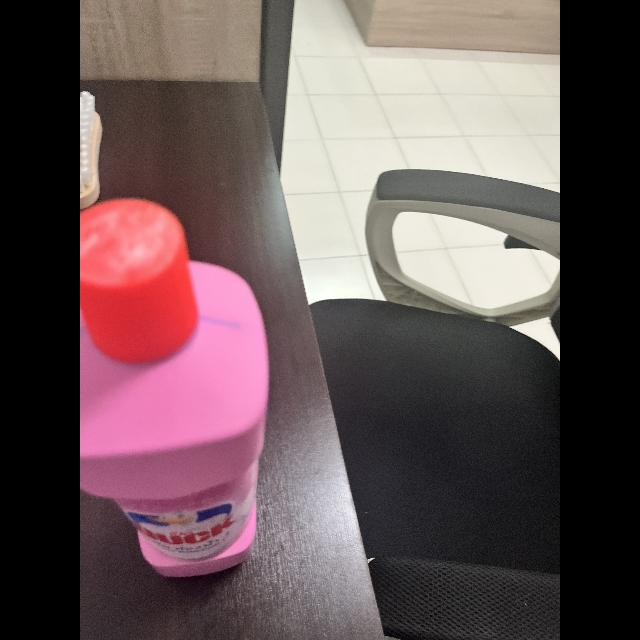chemical_plastic_bottle: (80, 199, 288, 581)
